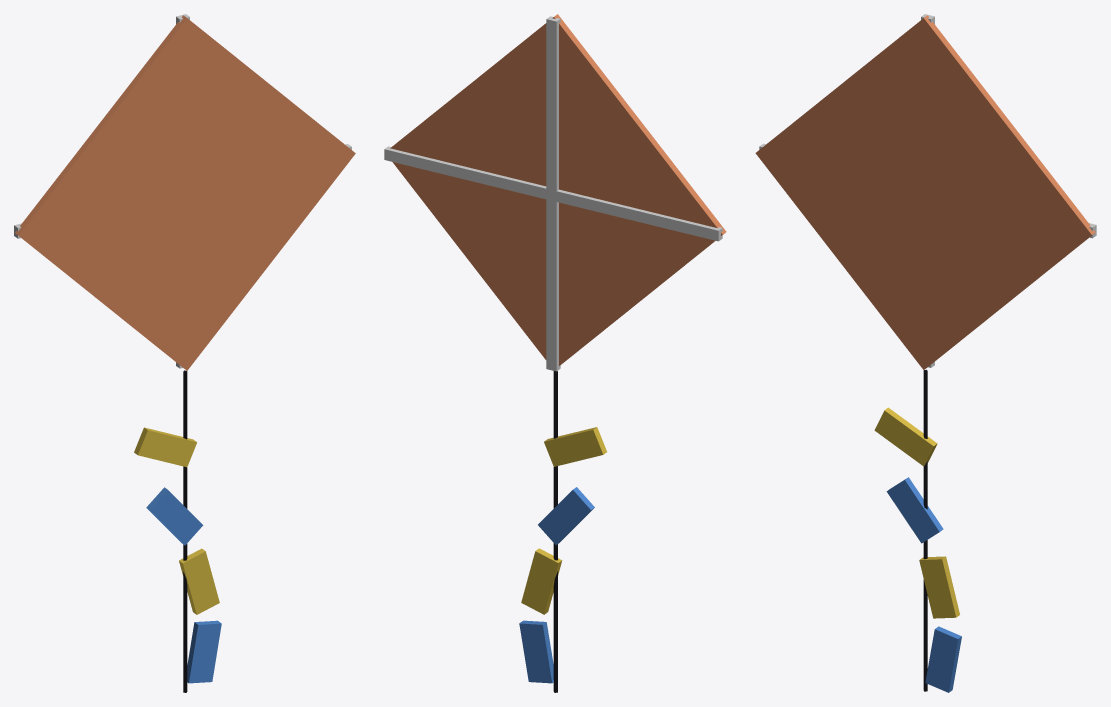
The model's file is kite.glb.
The picture shows the model from 3 angles, left to right: view 1: azimuth 30°, elevation 25°; view 2: azimuth 150°, elevation 25°; view 3: azimuth 330°, elevation 25°; orthographic projection.
Parts seen in each view (by area): view 1: kite; view 2: kite; view 3: kite.
Boxes of the visible parts, bbox=[...] form: kite: bbox=[14, 14, 355, 692]; kite: bbox=[384, 14, 726, 692]; kite: bbox=[755, 14, 1096, 692].
Size of the model in its own units: 0.9899 by 1.89 by 0.032.
